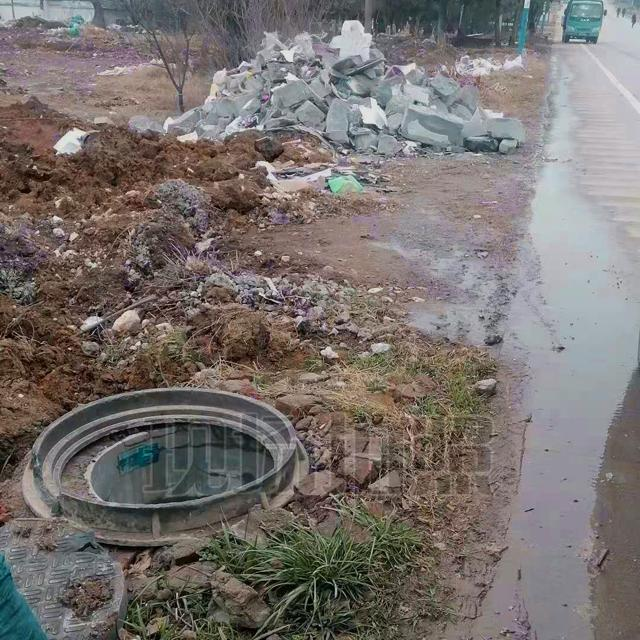lose: (21, 389, 309, 539)
